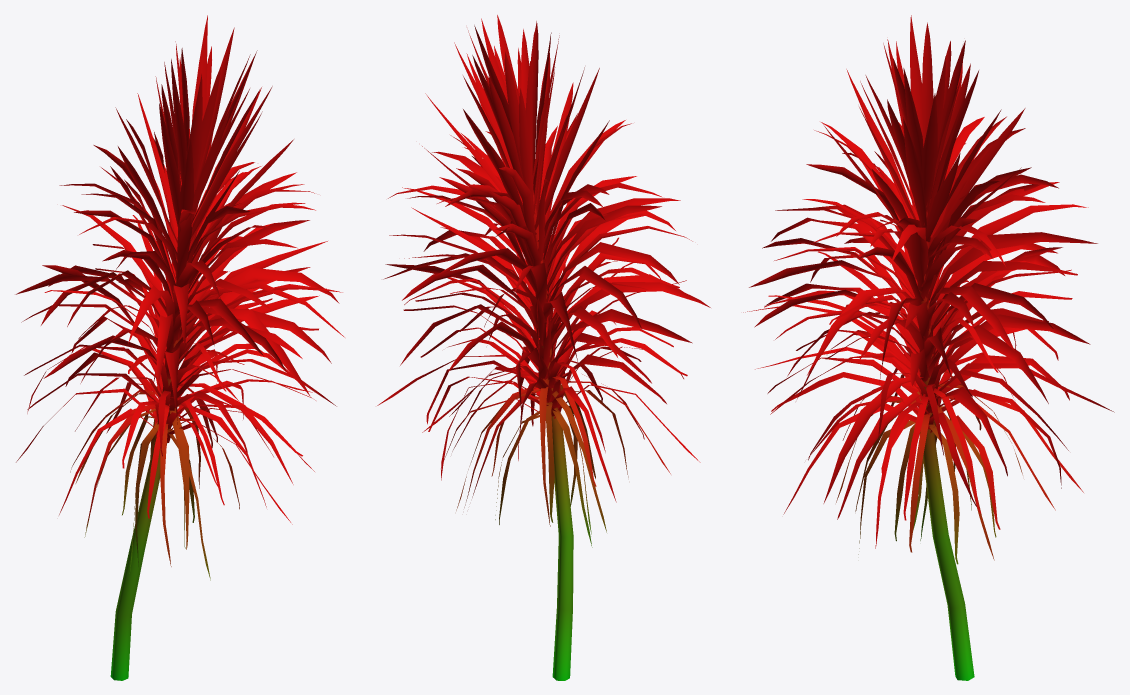
Rendered from Var2_LOD4.fbx.
3 views of the same model, side by side, from view 1: azimuth 30°, elevation 25°; view 2: azimuth 150°, elevation 25°; view 3: azimuth 270°, elevation 25° (orthographic). The views are drawn at different scales.
Visible parts, largest first — view 1: _e57k_Var2_LOD4; view 2: _e57k_Var2_LOD4; view 3: _e57k_Var2_LOD4.
Part boxes in pixels (<box>): _e57k_Var2_LOD4: <box>15,15,344,680</box>; _e57k_Var2_LOD4: <box>377,15,710,680</box>; _e57k_Var2_LOD4: <box>743,15,1114,680</box>.
Bounding box in the file's own units: 80.27 × 169 × 83.68.
